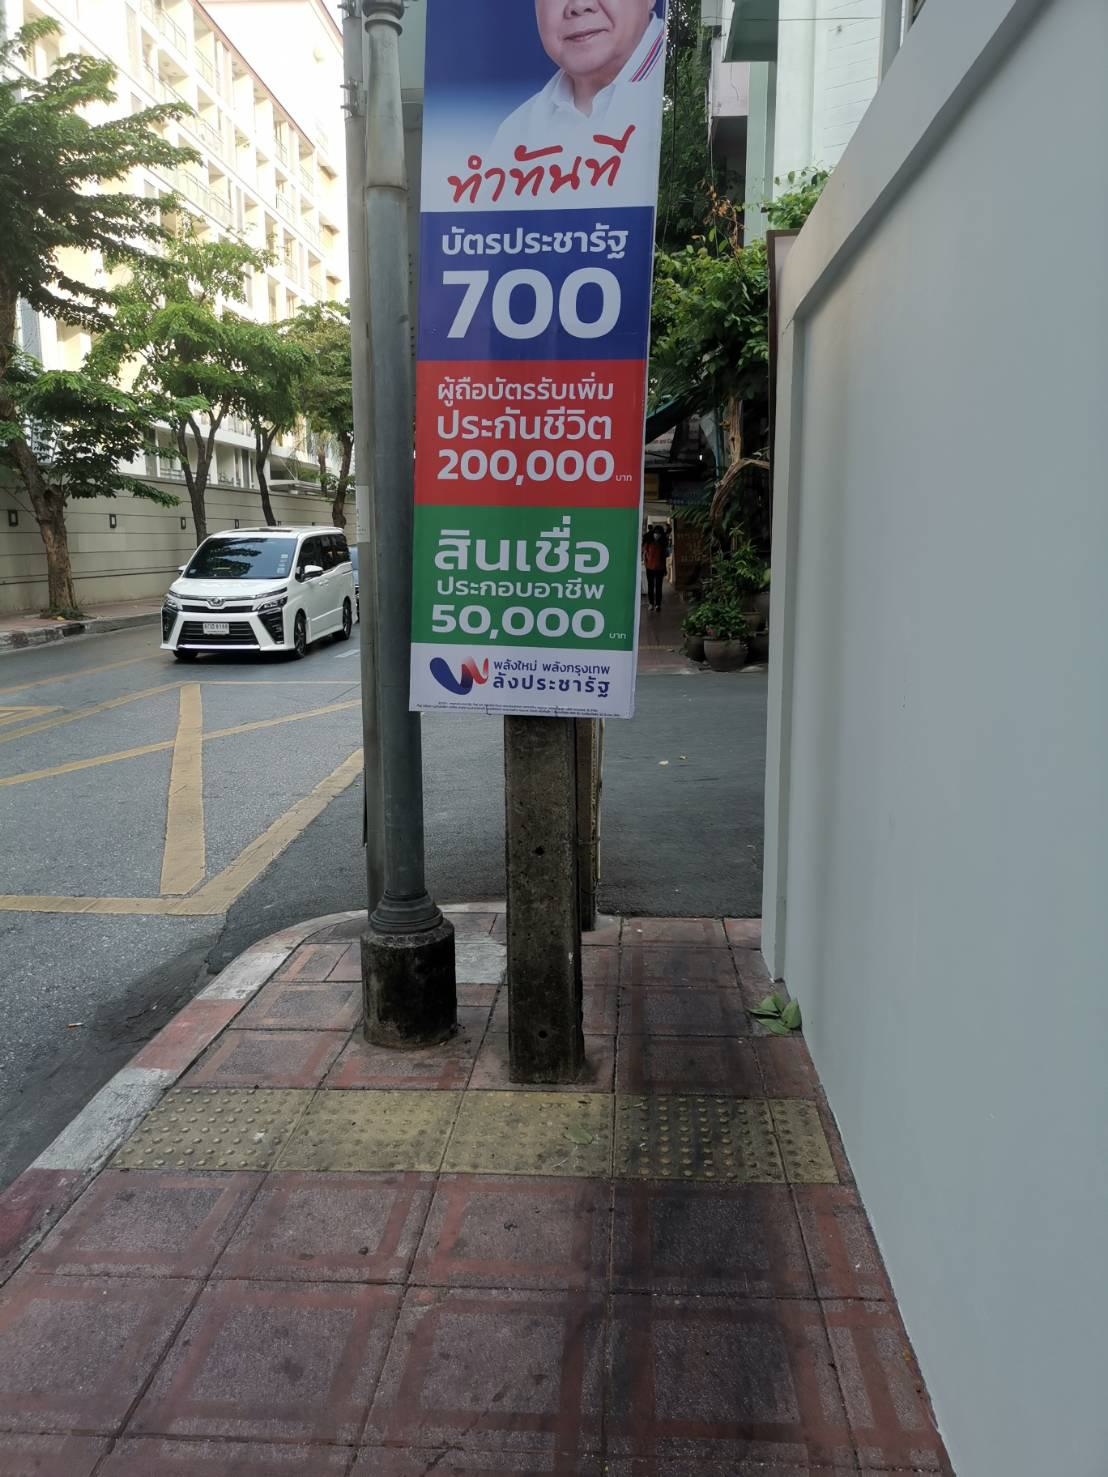Banner: (416, 0, 638, 706)
